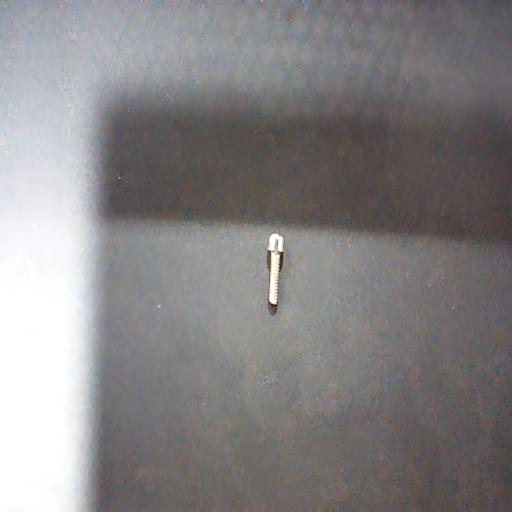screw: (266, 233, 284, 315)
